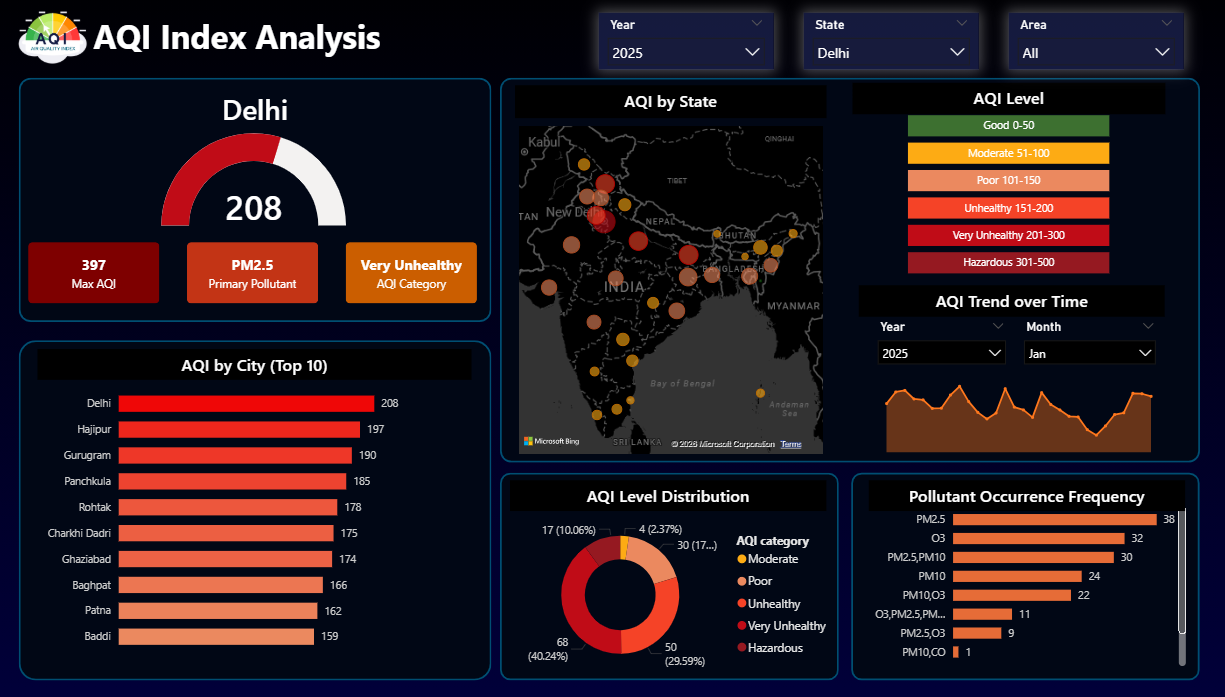

What the dashboard file says about the page in this screenshot:
{"tool":"powerbi","page":{"name":"Page 1","canvas":[1400,800],"ordinal":0},"visuals":[{"type":"textbox","box":[101.2,12.3,358.6,62.7],"z":0},{"type":"image","box":[18.2,12.3,83.3,62.1],"z":1000},{"type":"slicer","fields":{"Values":["Calendar Table.Year"]},"box":[684.4,15.3,199.6,64.5],"z":2000},{"type":"shape","box":[21,90.1,540.3,279.2],"z":3000},{"type":"slicer","fields":{"Values":["day_wise_aqi_data.state"]},"box":[918.5,15.3,199.6,64.5],"z":4000},{"type":"cardVisual","fields":{"Data":["day_wise_aqi_data.KPI Title"]},"box":[21,90.1,540.3,69],"z":5000},{"type":"gauge","fields":{"Y":["day_wise_aqi_data.avg AQI"]},"box":[139.6,148.6,300.2,115.6],"z":6000},{"type":"cardVisual","fields":{"Data":["Max(day_wise_aqi_data.aqi_value)"]},"box":[17.4,263.6,180,100],"z":7000},{"type":"cardVisual","fields":{"Data":["day_wise_aqi_data.Primary Pollutant"]},"box":[199,263.6,180,100],"z":8000},{"type":"cardVisual","fields":{"Data":["day_wise_aqi_data.AQI Category"]},"box":[380.6,263.6,180,100],"z":9000},{"type":"shape","box":[571.8,90.1,800,439.8],"z":10000},{"type":"textbox","box":[974.1,96.1,357.2,36],"z":11000},{"type":"map","fields":{"Category":["day_wise_aqi_data.state"],"Size":["day_wise_aqi_data.avg AQI"]},"box":[589.3,101,357.2,423.2],"z":12000,"group":"g1"},{"type":"group","id":"g1","title":"Group 1","box":[588.8,98,357.7,426.3],"z":12000},{"type":"barChart","fields":{"Category":["day_wise_aqi_data.AQI category_col"],"Y":["day_wise_aqi_data.Label"]},"box":[1032.6,120.1,240.1,199.6],"z":13000},{"type":"textbox","box":[588.8,98,355.7,37.5],"z":14000,"group":"g1"},{"type":"areaChart","fields":{"Category":["Calendar Table.Date.Variation.Date Hierarchy.Day"],"Y":["Sum(day_wise_aqi_data.aqi_value)"]},"box":[993.6,427.7,337.7,96.1],"z":14000},{"type":"slicer","fields":{"Values":["Calendar Table.Year"]},"box":[993.6,361.7,166.6,69],"z":15000},{"type":"slicer","fields":{"Values":["Calendar Table.Month"]},"box":[1160.2,361.7,171.1,69],"z":16000},{"type":"slicer","fields":{"Values":["day_wise_aqi_data.area"]},"box":[1152.7,15.3,199.6,64.5],"z":17000},{"type":"textbox","box":[981.6,327.2,349.7,36],"z":18000},{"type":"shape","box":[21,390.2,540.3,388.7],"z":19000},{"type":"barChart","fields":{"Category":["day_wise_aqi_data.area"],"Y":["day_wise_aqi_data.avg AQI"]},"box":[42.3,428.1,496.3,327.2],"z":20000},{"type":"textbox","box":[42.3,399.5,496.3,35.4],"z":20001},{"type":"shape","box":[571.2,541.2,387.2,237.2],"z":20002},{"type":"donutChart","fields":{"Category":["day_wise_aqi_data.AQI category_col"],"Y":["day_wise_aqi_data.Count of Rows"]},"box":[571.2,584.9,387.2,193.6],"z":20003},{"type":"textbox","box":[583.5,549.4,361.3,35.4],"z":20004},{"type":"shape","box":[973.4,541.2,398.1,237.2],"z":20005},{"type":"barChart","fields":{"Y":["day_wise_aqi_data.Count of Rows"],"Category":["day_wise_aqi_data.prominent_pollutants"]},"box":[981.6,567.1,379,200.4],"z":20006},{"type":"textbox","box":[992.5,549.4,361.3,35.4],"z":20007}]}

Visuals, with their boxes in screenshot pixels (x1, y1, x2, y2), scaled from the page's 1400x800 canvas onto the 1225x697 screenshot:
textbox: {"left": 89, "top": 11, "right": 402, "bottom": 65}
image: {"left": 16, "top": 11, "right": 89, "bottom": 65}
slicer - Calendar Table.Year: {"left": 599, "top": 13, "right": 774, "bottom": 70}
shape: {"left": 18, "top": 78, "right": 491, "bottom": 322}
slicer - day_wise_aqi_data.state: {"left": 804, "top": 13, "right": 978, "bottom": 70}
cardVisual - day_wise_aqi_data.KPI Title: {"left": 18, "top": 78, "right": 491, "bottom": 139}
gauge - day_wise_aqi_data.avg AQI: {"left": 122, "top": 129, "right": 385, "bottom": 230}
cardVisual - Max(day_wise_aqi_data.aqi_value): {"left": 15, "top": 230, "right": 173, "bottom": 317}
cardVisual - day_wise_aqi_data.Primary Pollutant: {"left": 174, "top": 230, "right": 332, "bottom": 317}
cardVisual - day_wise_aqi_data.AQI Category: {"left": 333, "top": 230, "right": 491, "bottom": 317}
shape: {"left": 500, "top": 78, "right": 1200, "bottom": 462}
textbox: {"left": 852, "top": 84, "right": 1165, "bottom": 115}
map - day_wise_aqi_data.state x day_wise_aqi_data.avg AQI: {"left": 516, "top": 88, "right": 828, "bottom": 457}
"Group 1" group: {"left": 515, "top": 85, "right": 828, "bottom": 457}
barChart - day_wise_aqi_data.AQI category_col x day_wise_aqi_data.Label: {"left": 904, "top": 105, "right": 1114, "bottom": 279}
textbox: {"left": 515, "top": 85, "right": 826, "bottom": 118}
areaChart - Calendar Table.Date.Variation.Date Hierarchy.Day x Sum(day_wise_aqi_data.aqi_value): {"left": 869, "top": 373, "right": 1165, "bottom": 456}
slicer - Calendar Table.Year: {"left": 869, "top": 315, "right": 1015, "bottom": 375}
slicer - Calendar Table.Month: {"left": 1015, "top": 315, "right": 1165, "bottom": 375}
slicer - day_wise_aqi_data.area: {"left": 1009, "top": 13, "right": 1183, "bottom": 70}
textbox: {"left": 859, "top": 285, "right": 1165, "bottom": 316}
shape: {"left": 18, "top": 340, "right": 491, "bottom": 679}
barChart - day_wise_aqi_data.area x day_wise_aqi_data.avg AQI: {"left": 37, "top": 373, "right": 471, "bottom": 658}
textbox: {"left": 37, "top": 348, "right": 471, "bottom": 379}
shape: {"left": 500, "top": 472, "right": 839, "bottom": 678}
donutChart - day_wise_aqi_data.AQI category_col x day_wise_aqi_data.Count of Rows: {"left": 500, "top": 510, "right": 839, "bottom": 678}
textbox: {"left": 511, "top": 479, "right": 827, "bottom": 510}
shape: {"left": 852, "top": 472, "right": 1200, "bottom": 678}
barChart - day_wise_aqi_data.Count of Rows x day_wise_aqi_data.prominent_pollutants: {"left": 859, "top": 494, "right": 1191, "bottom": 669}
textbox: {"left": 868, "top": 479, "right": 1185, "bottom": 510}
